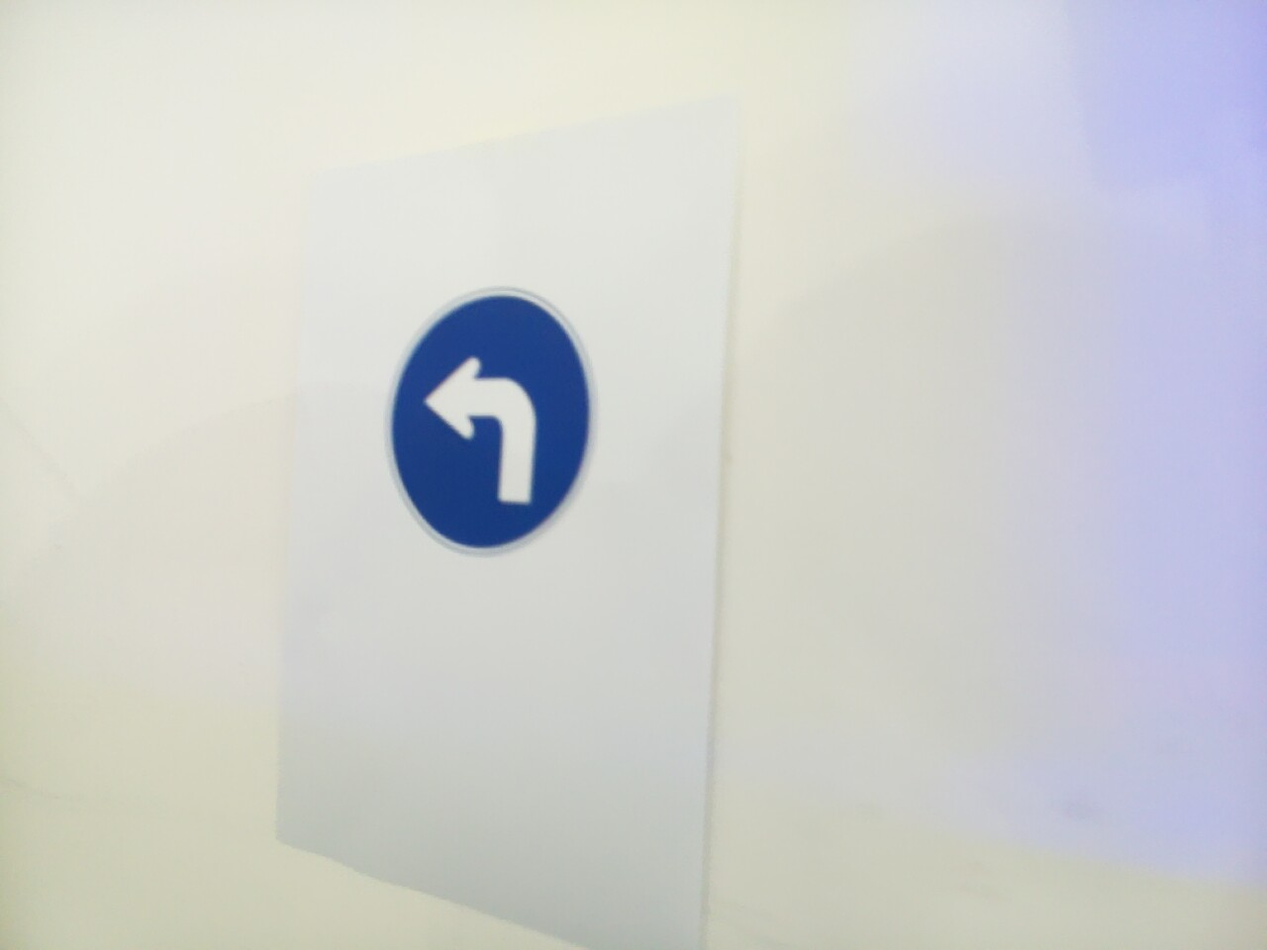left_turn: (384, 287, 598, 557)
